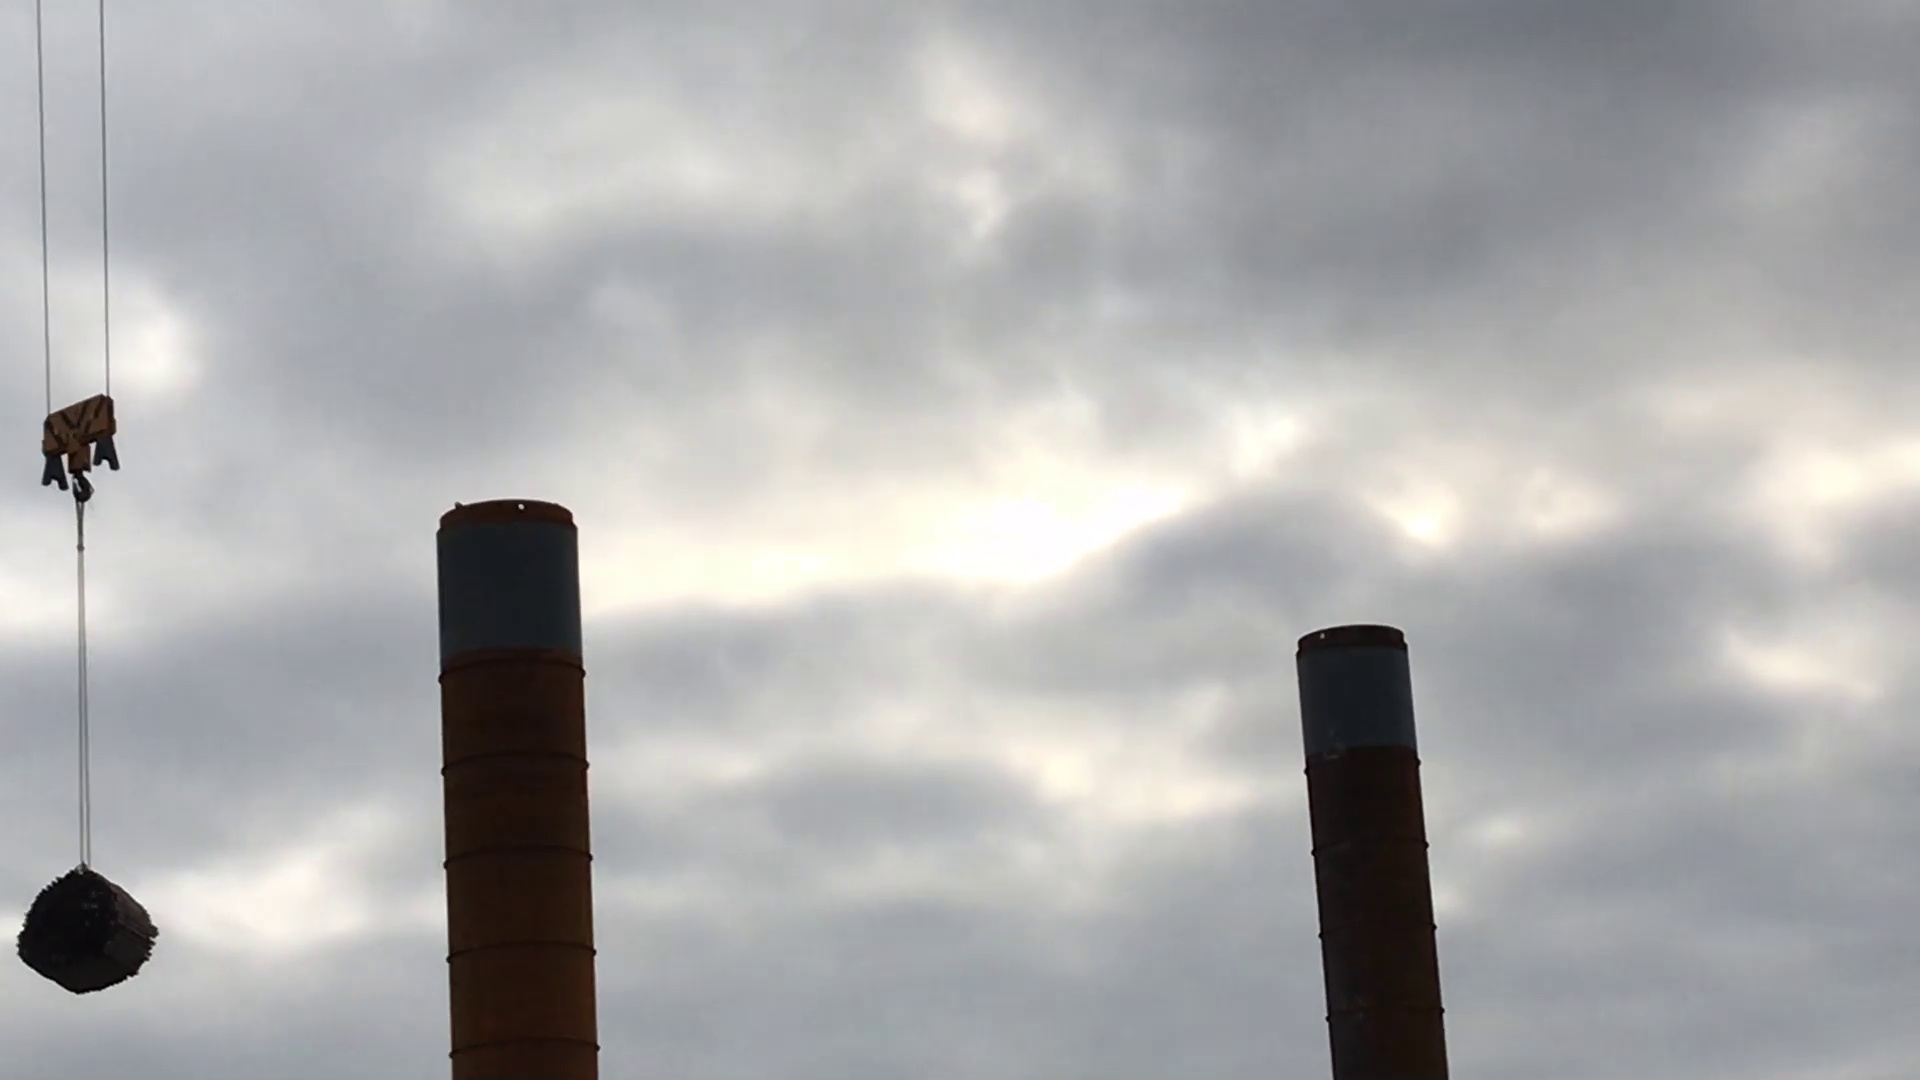hook: (25, 404, 113, 505)
